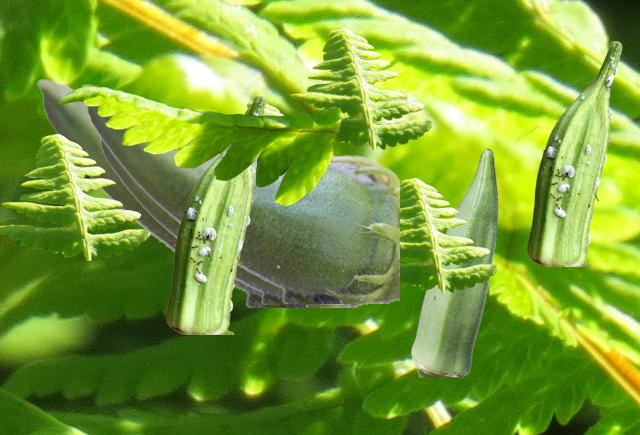okra: (36, 78, 366, 306), (80, 83, 398, 302), (98, 138, 353, 303), (166, 96, 265, 333), (527, 41, 621, 265), (411, 148, 497, 376)
